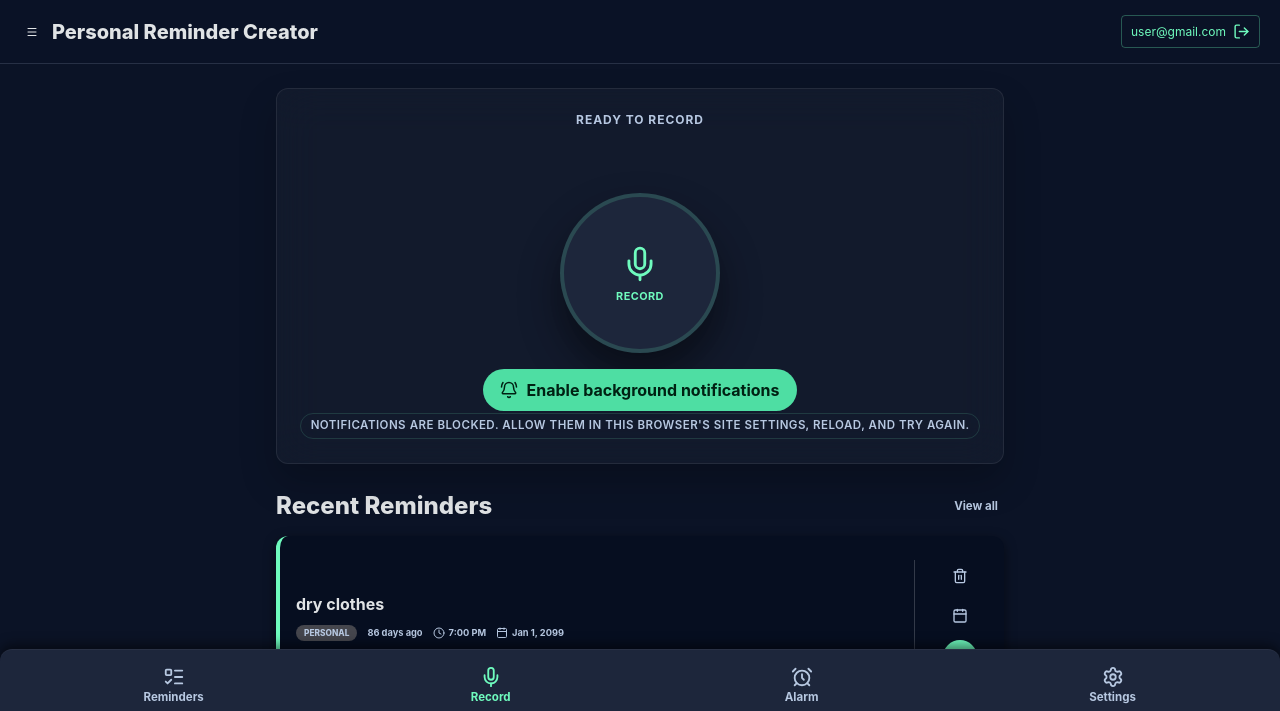
Test: App › returns from the reschedule screen to the previous home view
Expected: the text "dry clothes" is shown, left=296, top=594, right=384, bottom=614
Step 1. Click the button named "reschedule dry clothes" → (960, 616), box left=944, top=600, right=976, bottom=632
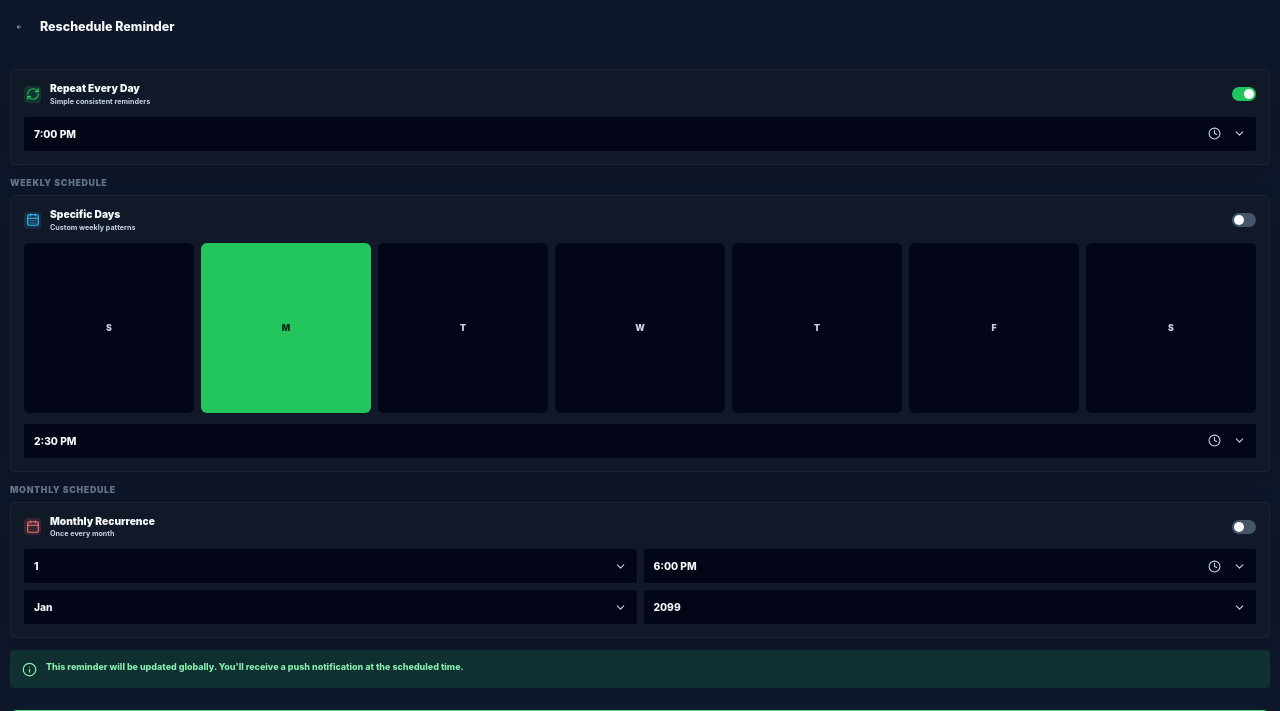
Step 2. Click the button named "back" → (19, 27), box left=10, top=18, right=28, bottom=36
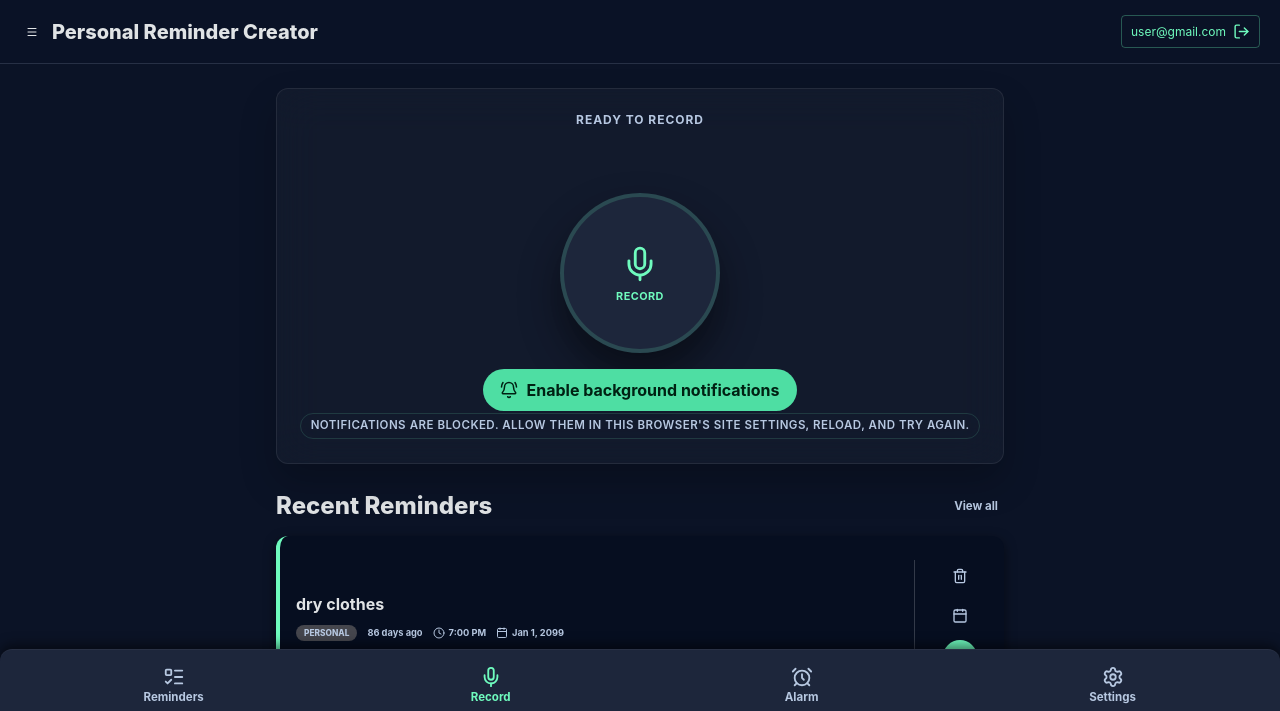
Now the heading "Recent Reminders" is shown, box left=276, top=492, right=492, bottom=520
Now the text "dry clothes" is shown, box left=296, top=594, right=384, bottom=614
